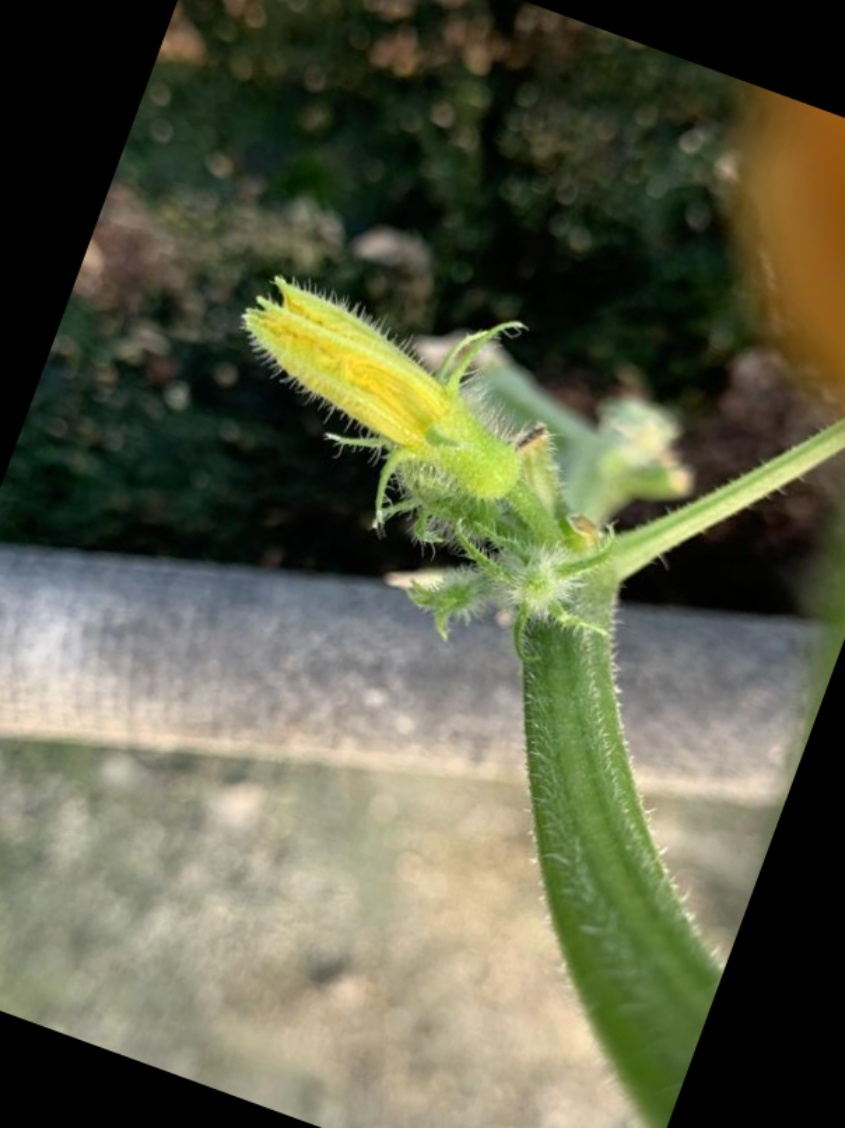bud: (227, 270, 591, 486)
